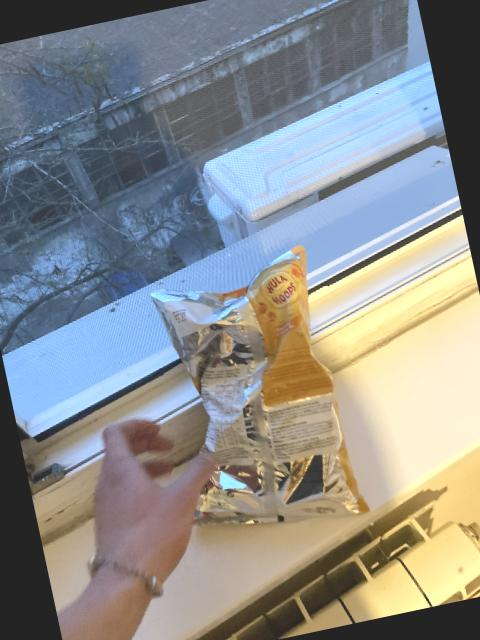Chio Hula Hoops Cheese 70g: (144, 249, 367, 542)
